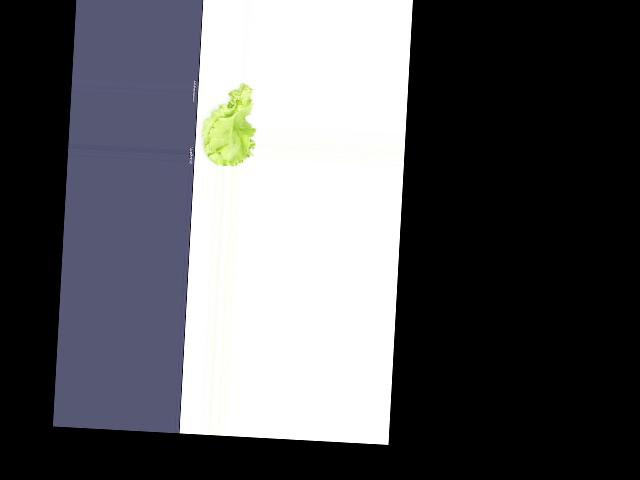lettuce: (196, 82, 259, 167)
